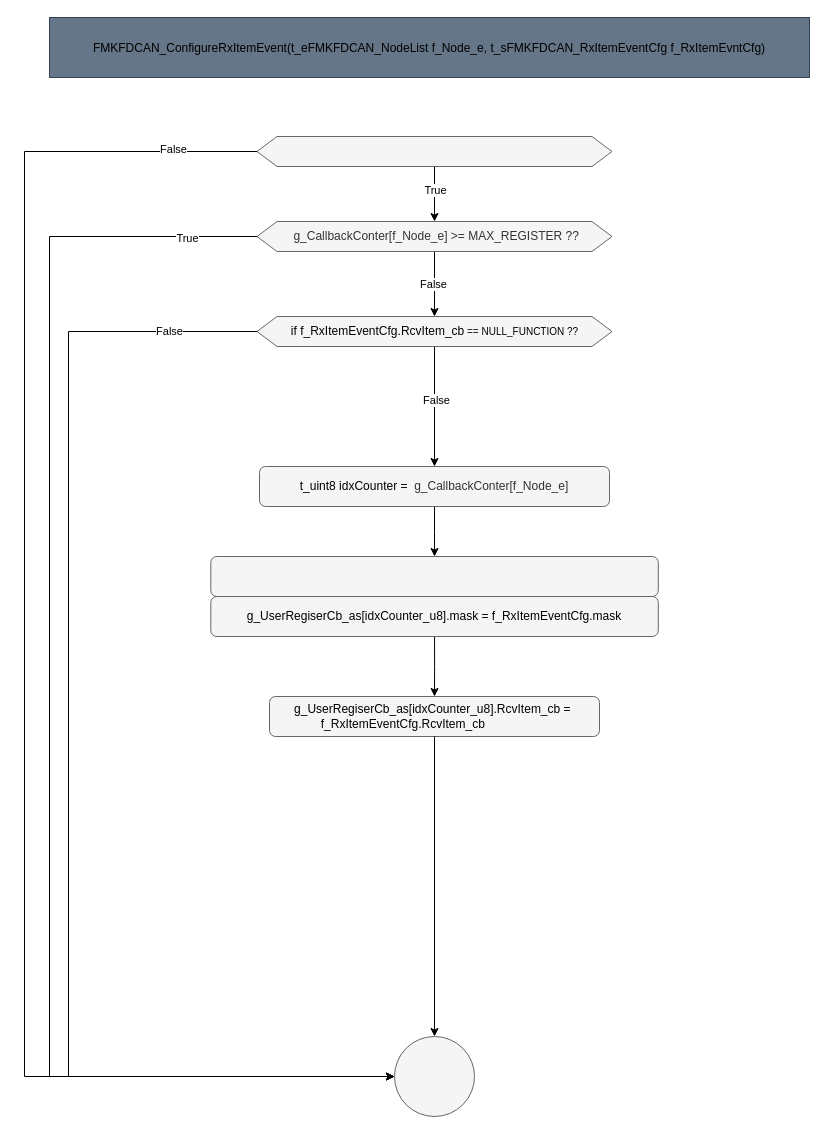
Image size: 827x1134. Some labels were removed from this diagram. Each missing label, with the box of its shape:
End: (394, 1036, 474, 1116)
g_NodeInfo_as[f_Node_e].isConfigured == True ??: (256, 136, 612, 166)
g_UserRegiserCb_as[idxCounter_u8].id = f_RxItemEventCfg.Id: (210, 556, 658, 596)
